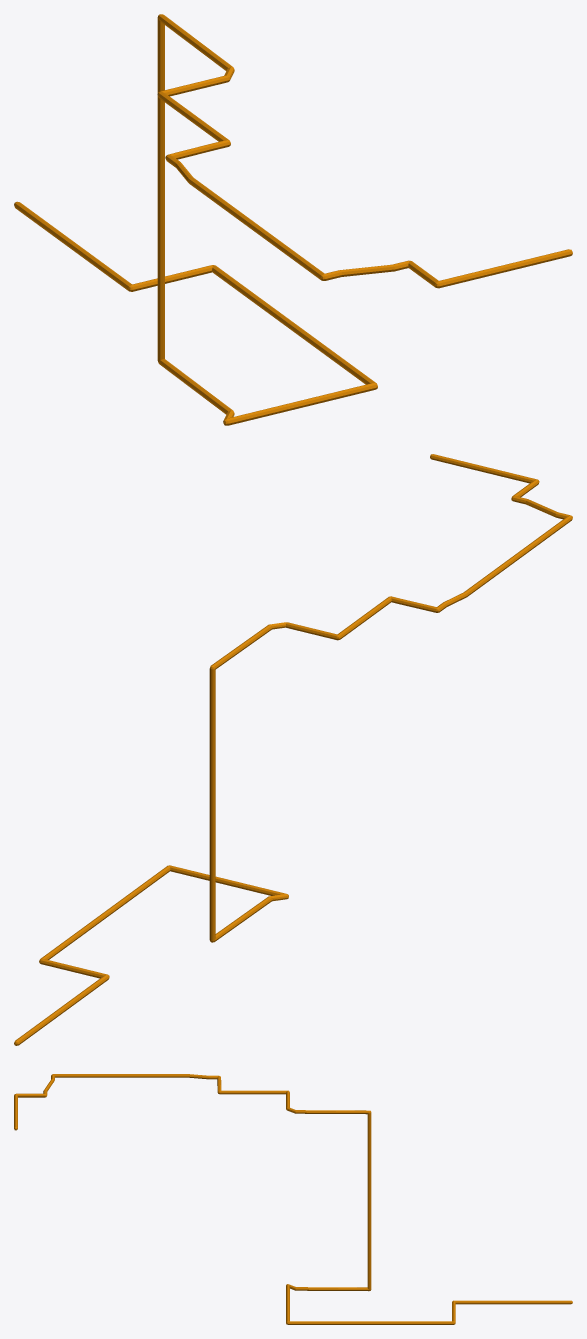
3 views of the same model, one above another, from view 1: azimuth 30°, elevation 25°; view 2: azimuth 150°, elevation 25°; view 3: azimuth 270°, elevation 25° (orthographic). The views are drawn at different scales.
Size of the model in its own units: 869 by 1020 by 2863.
